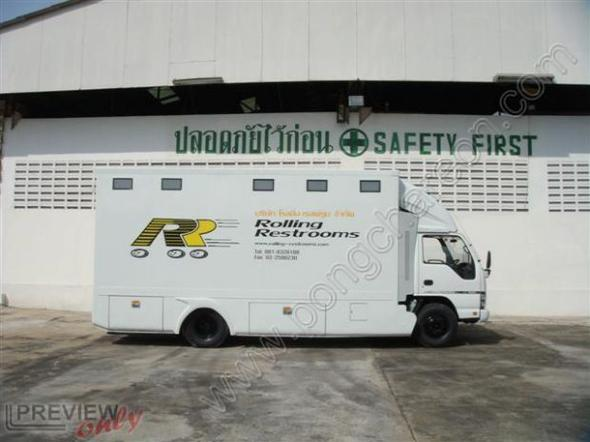truck: (92, 166, 491, 345)
